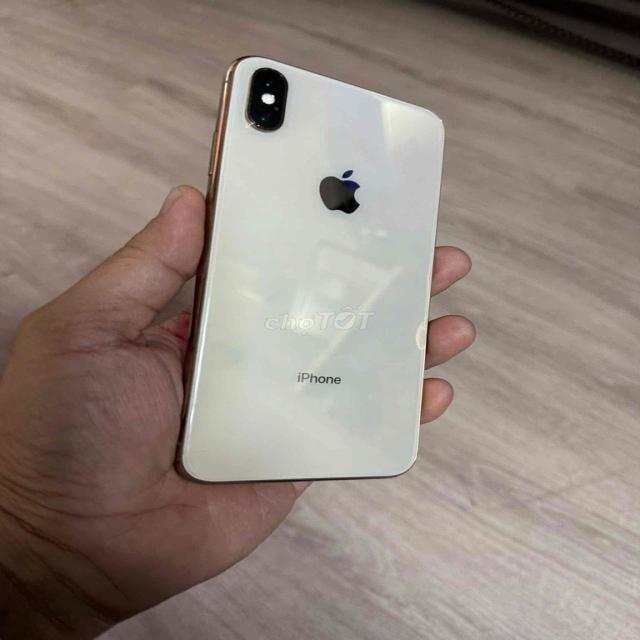gen_x_xs: (169, 53, 443, 490)
